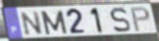1: (89, 7, 105, 35)
2: (64, 7, 90, 37)
M: (39, 10, 70, 36)
N: (20, 10, 44, 37)
P: (129, 6, 152, 33)
S: (109, 6, 133, 34)
